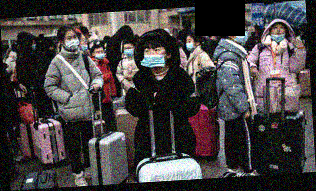mask_weared_incorrect: (271, 24, 286, 41), (78, 36, 89, 52)
with_mask: (143, 46, 168, 69), (63, 33, 80, 51), (233, 26, 249, 44), (185, 37, 196, 53), (123, 46, 134, 58), (95, 49, 105, 61)
